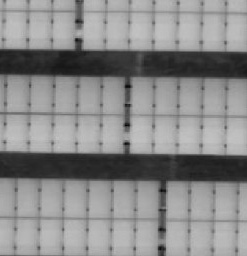solar: (12, 212, 42, 256), (34, 212, 64, 256), (60, 212, 90, 256), (85, 212, 115, 256), (2, 72, 32, 115), (26, 72, 56, 115), (50, 73, 80, 116), (74, 73, 104, 116), (98, 73, 128, 116), (128, 74, 158, 117), (151, 74, 181, 117), (175, 74, 205, 117), (199, 74, 229, 117), (1, 111, 31, 154), (25, 110, 55, 153), (50, 112, 80, 155), (75, 112, 105, 155), (97, 112, 127, 155), (126, 112, 156, 155), (149, 112, 179, 155), (174, 113, 204, 156), (199, 112, 229, 155), (13, 176, 43, 219), (36, 176, 66, 219), (60, 176, 90, 219), (85, 176, 115, 219), (109, 179, 139, 222), (132, 179, 162, 222), (162, 179, 192, 222), (187, 180, 217, 223), (211, 180, 241, 223), (24, 7, 54, 50), (47, 7, 77, 50), (80, 8, 110, 51), (103, 8, 133, 51), (127, 8, 157, 51), (149, 8, 179, 51), (176, 8, 206, 51), (198, 8, 228, 51), (1, 7, 30, 50), (108, 215, 138, 256)
